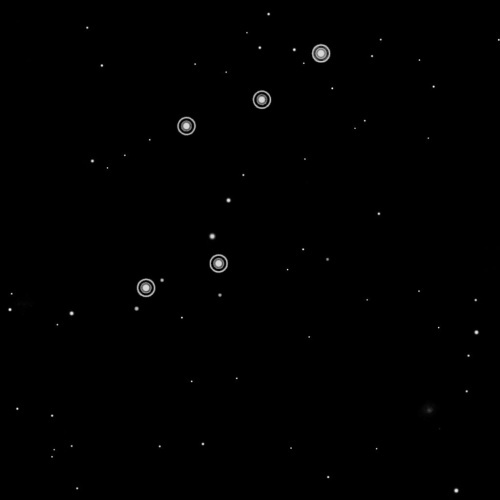lyra: (134, 37, 334, 303)
